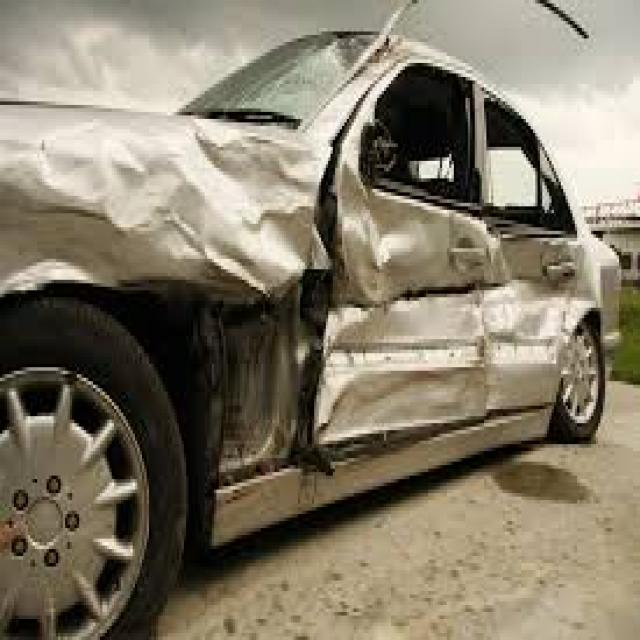severe: (56, 96, 590, 440)
